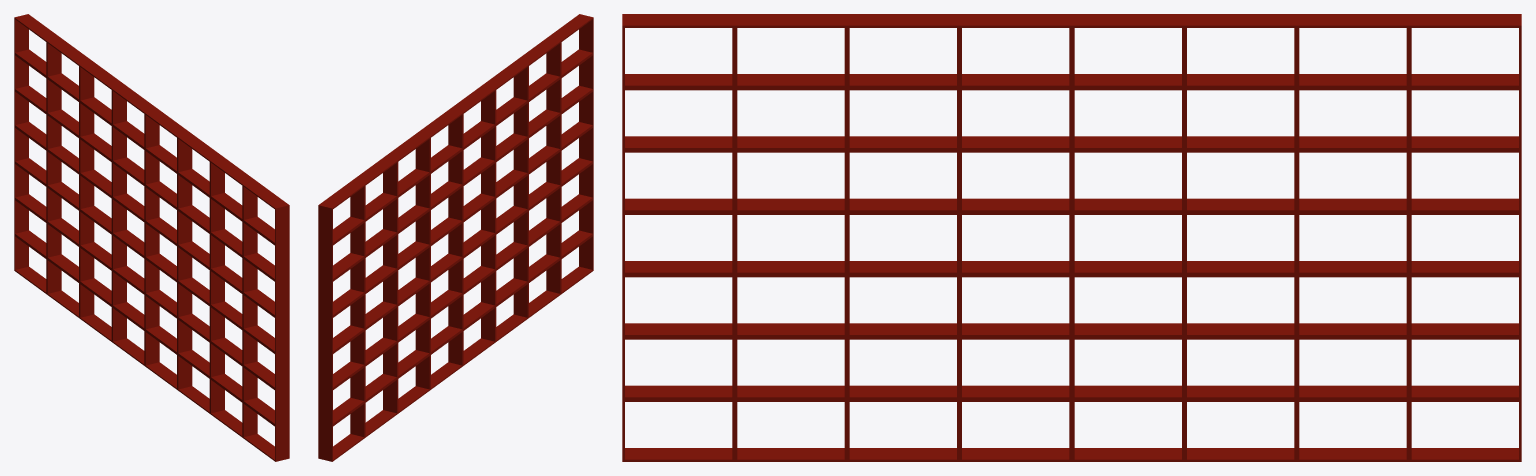
3 views of the same model, side by side, from view 1: azimuth 30°, elevation 25°; view 2: azimuth 150°, elevation 25°; view 3: azimuth 270°, elevation 25° (orthographic). The views are drawn at different scales.
Parts seen in each view (by area): view 1: Cube.031; view 2: Cube.031; view 3: Cube.031.
Boxes of the visible parts, x1,y1,x2,y2 form: Cube.031: (14, 14, 289, 461); Cube.031: (318, 14, 593, 461); Cube.031: (622, 14, 1521, 461).
Size of the model in its own units: 0.2899 by 5.01 by 9.37.
